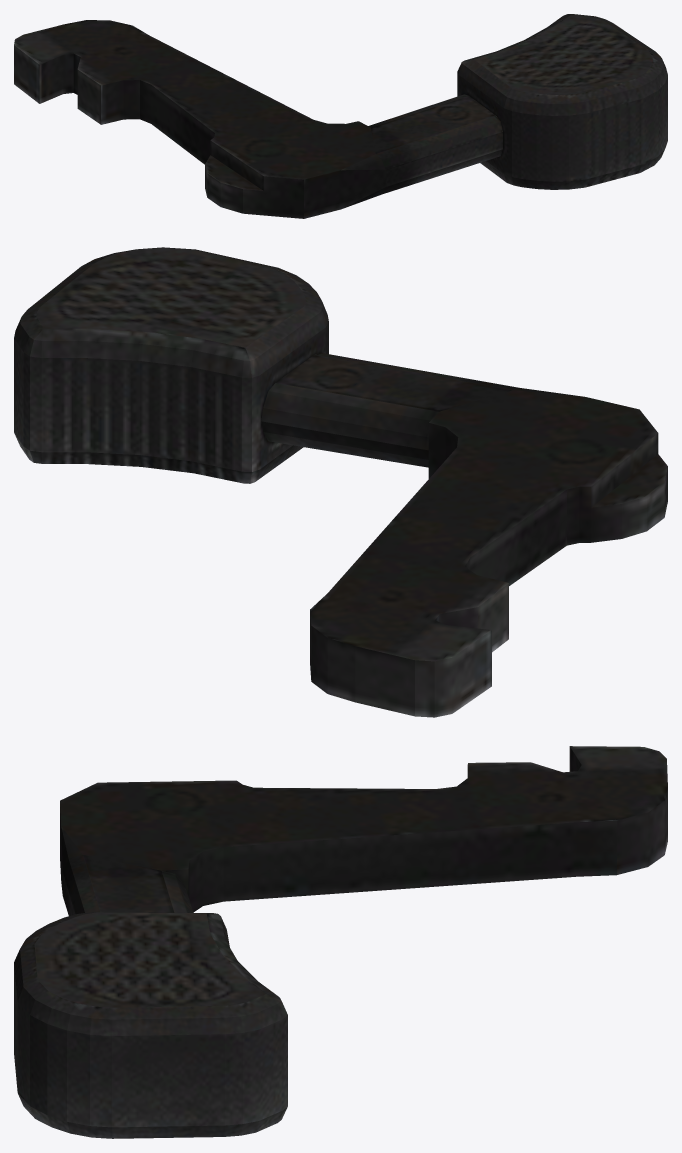
The picture shows the model from 3 angles, top to bottom: view 1: azimuth 30°, elevation 25°; view 2: azimuth 150°, elevation 25°; view 3: azimuth 270°, elevation 25°; orthographic projection. The views are drawn at different scales.
Visible parts, largest first — view 1: TW_5fc3e272f8b6a877a729eac5_PZ_Import; view 2: TW_5fc3e272f8b6a877a729eac5_PZ_Import; view 3: TW_5fc3e272f8b6a877a729eac5_PZ_Import.
Boxes of the visible parts, x1,y1,x2,y2 form: TW_5fc3e272f8b6a877a729eac5_PZ_Import: (14,14,667,218); TW_5fc3e272f8b6a877a729eac5_PZ_Import: (14,247,667,717); TW_5fc3e272f8b6a877a729eac5_PZ_Import: (14,746,667,1138).
Size of the model in its own units: 0.0303 by 0.0271 by 0.00599.
1 material, 1 textured.
